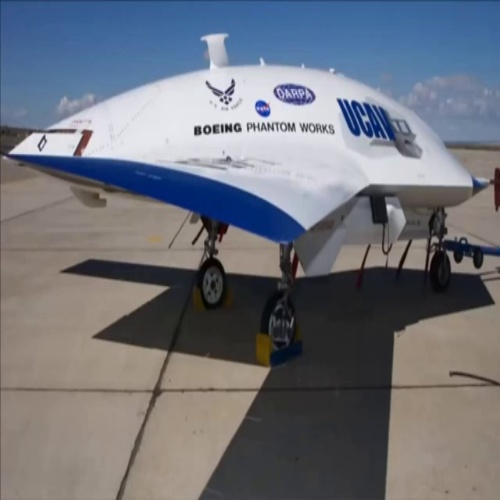uav839: (4, 34, 498, 352)
